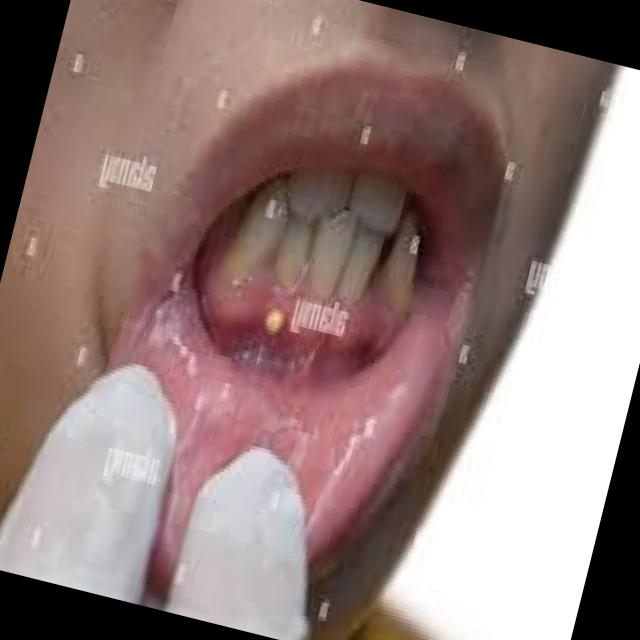abscess: (191, 265, 278, 362)
